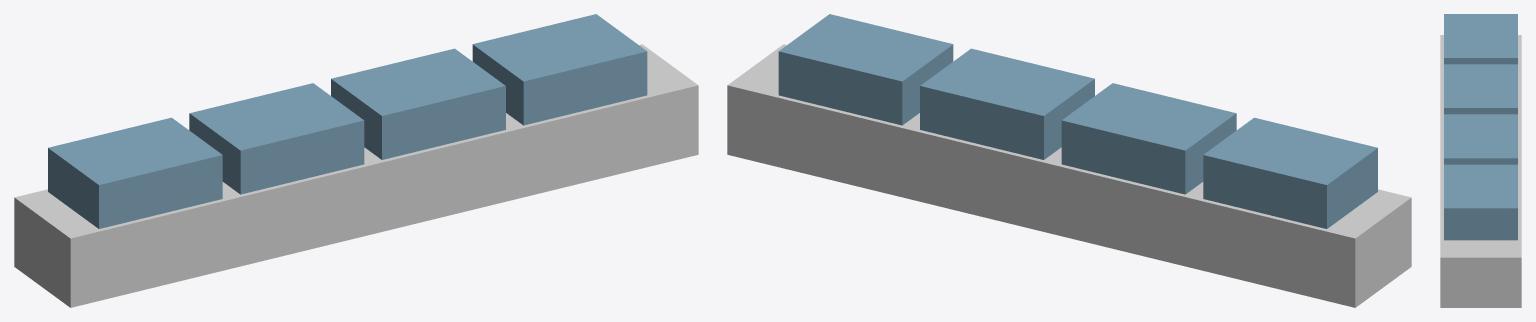
The model's file is carros.glb.
3 renders of one model, left to right at view 1: azimuth 30°, elevation 25°; view 2: azimuth 150°, elevation 25°; view 3: azimuth 270°, elevation 25°, orthographic. The views are drawn at different scales.
Size of the model in its own units: 14.2 by 2.45 by 2.2.
